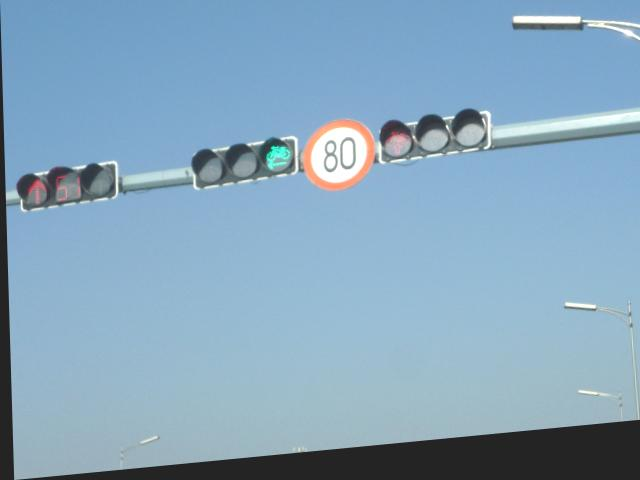limit80: (299, 122, 378, 203)
